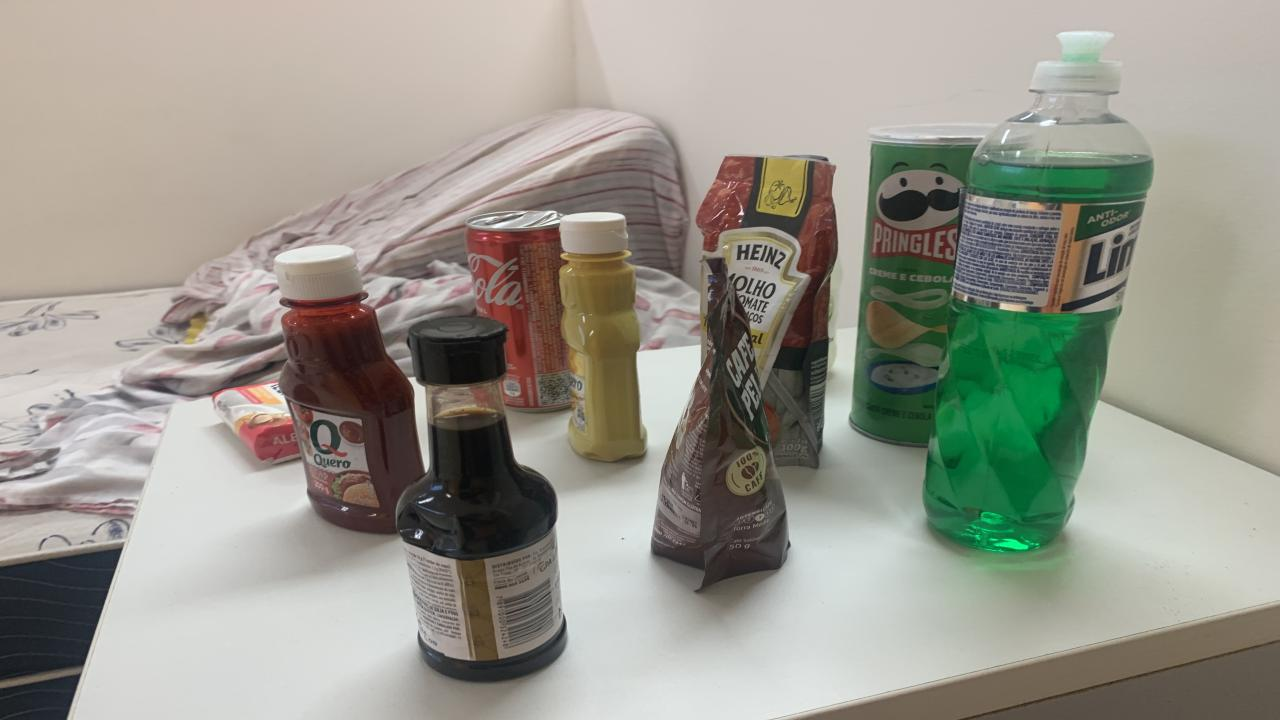Coffee-Pantry_Items: (650, 257, 790, 589)
Coke-Drinks: (465, 210, 572, 411)
Detergent-Cleanup_Items: (922, 32, 1152, 551)
English_Sauce-Pantry_Items: (398, 317, 568, 681)
Ketchup-Pantry_Items: (275, 246, 422, 532)
Mustard-Pantry_Items: (698, 156, 838, 467), (560, 212, 648, 461)
Pringles-Snacks: (850, 126, 995, 446)
Soap-Cleanup_Items: (212, 382, 300, 463)
